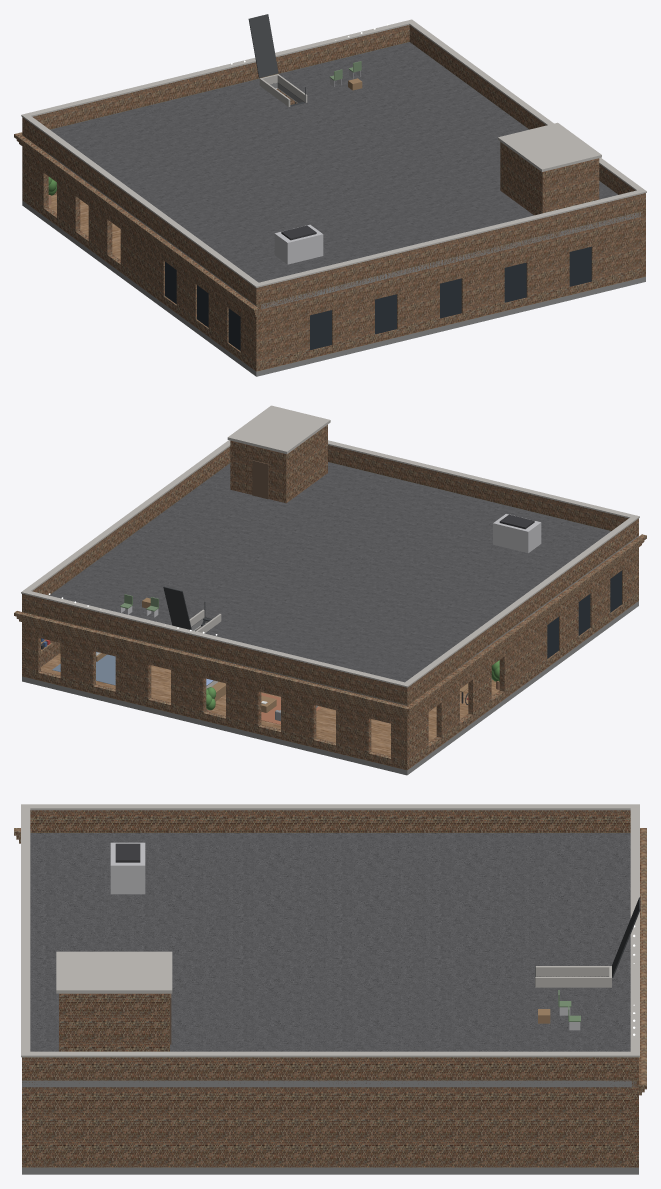
Rendered from apartment.glb.
3 renders of one model, top to bottom at view 1: azimuth 30°, elevation 25°; view 2: azimuth 150°, elevation 25°; view 3: azimuth 270°, elevation 25°, orthographic. The views are drawn at different scales.
Parts seen in each view (by area): view 1: apt_roof, apt_brick, apt_coping, apt_slab, apt_glass_dark, apt_metal, apt_steel, apt_wood_floor; view 2: apt_roof, apt_brick, apt_coping, apt_slab, apt_wood_floor, apt_metal, apt_glass_dark, apt_steel, apt_furniture_wood, apt_door, apt_cloth_rug2; view 3: apt_roof, apt_brick, apt_coping, apt_slab, apt_metal.
Boxes of the visible parts, x1,y1,x2,y2 form: apt_roof: (50,42,618,282); apt_brick: (14,25,645,371); apt_coping: (21,19,646,287); apt_slab: (22,82,645,376); apt_glass_dark: (165,246,591,350); apt_metal: (274,70,360,264); apt_steel: (248,14,305,106); apt_wood_floor: (48,194,120,259); apt_roof: (49,462,611,682); apt_brick: (14,424,646,770); apt_coping: (21,405,639,687); apt_slab: (22,535,638,775); apt_wood_floor: (41,653,499,755); apt_metal: (120,514,541,617); apt_glass_dark: (547,571,621,658); apt_steel: (163,586,211,631); apt_furniture_wood: (41,597,468,712); apt_door: (252,460,268,499); apt_cloth_rug2: (52,654,115,685); apt_roof: (30,833,630,1051); apt_brick: (14,810,646,1167); apt_coping: (21,804,639,1057); apt_slab: (22,1080,638,1174); apt_metal: (110,842,580,1030).
Bounding box in the file's own units: 24.64 × 7.72 × 25.64.
33 materials, 9 textured.
